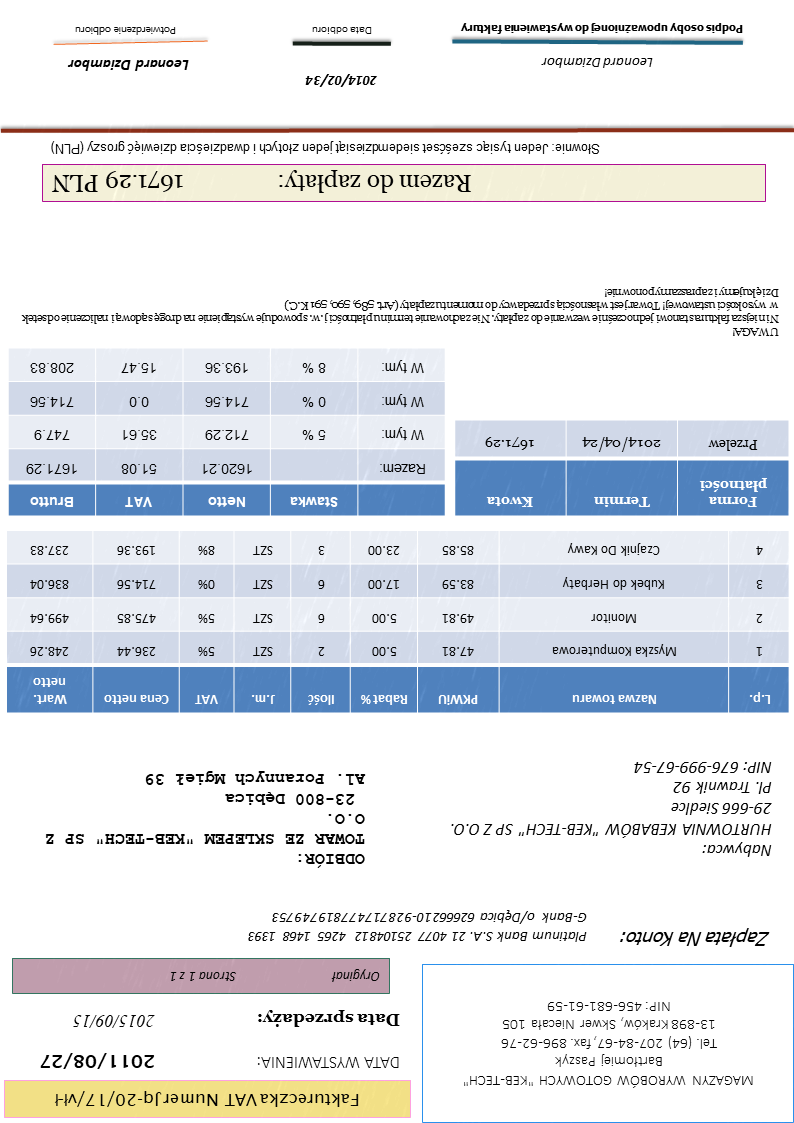Table: (6, 529, 790, 715), (7, 347, 447, 517), (454, 418, 790, 518)
TextBox: (19, 283, 782, 340), (40, 768, 369, 872), (450, 758, 776, 861), (460, 997, 757, 1091), (244, 907, 590, 946), (49, 167, 474, 198), (51, 137, 602, 160), (54, 1089, 363, 1111), (458, 20, 746, 39), (170, 966, 382, 984), (619, 926, 772, 950), (254, 1008, 403, 1030), (256, 1052, 403, 1073), (39, 1048, 157, 1071), (68, 57, 193, 74), (538, 54, 656, 72), (72, 1011, 156, 1031), (74, 24, 178, 37), (304, 72, 379, 90), (311, 23, 376, 39)
